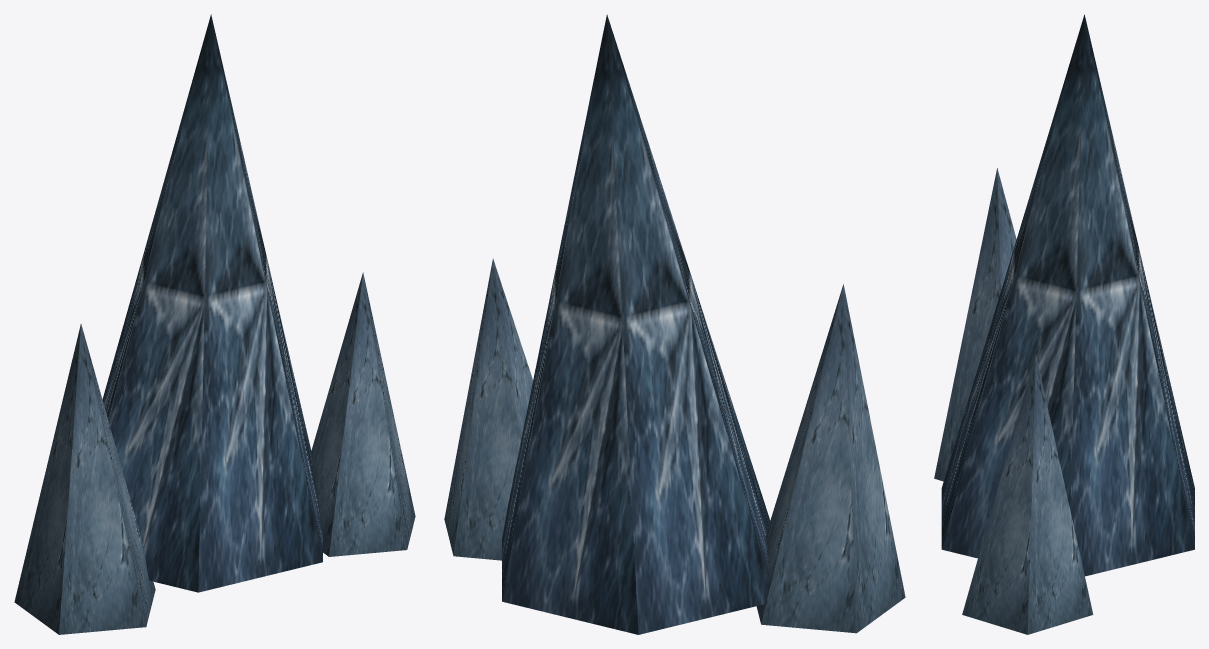
File: citadel_relic_0.obj
3 renders of one model, left to right at view 1: azimuth 30°, elevation 25°; view 2: azimuth 150°, elevation 25°; view 3: azimuth 270°, elevation 25°, orthographic. The views are drawn at different scales.
Visible parts, largest first — view 1: citadel_relic_0; view 2: citadel_relic_0; view 3: citadel_relic_0.
Part boxes in pixels (x1,y1,x2,y2): citadel_relic_0: (14,14,415,634); citadel_relic_0: (444,14,905,634); citadel_relic_0: (934,14,1194,634).
Size of the model in its own units: 2.25 by 2.9 by 1.28.
Materials: 1 (1 with a texture image).
